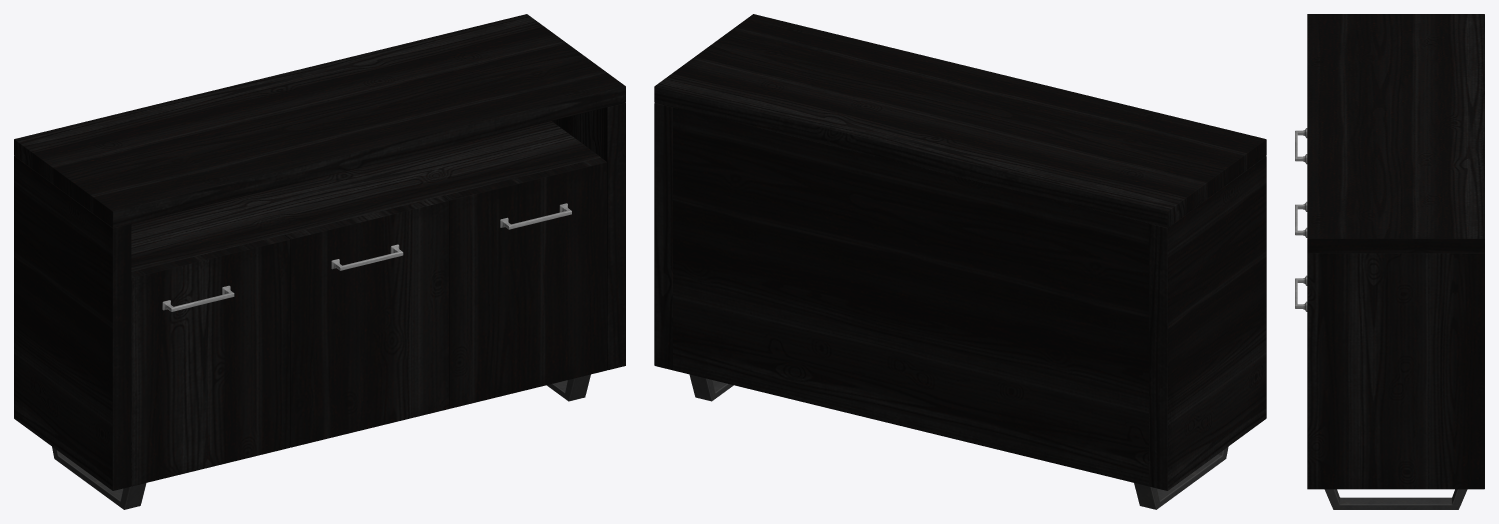
File: table1.glb
3 views of the same model, side by side, from view 1: azimuth 30°, elevation 25°; view 2: azimuth 150°, elevation 25°; view 3: azimuth 270°, elevation 25° (orthographic). The views are drawn at different scales.
Visible parts, largest first — view 1: Bellvern Dining Server; view 2: Bellvern Dining Server; view 3: Bellvern Dining Server.
Boxes of the visible parts, left/top/right/bottom form: Bellvern Dining Server: left=14, top=14, right=625, bottom=509; Bellvern Dining Server: left=654, top=14, right=1266, bottom=509; Bellvern Dining Server: left=1295, top=14, right=1484, bottom=509.
Bounding box in the file's own units: 1.37 × 0.8041 × 0.4886.
Materials: 1 (1 with a texture image).
